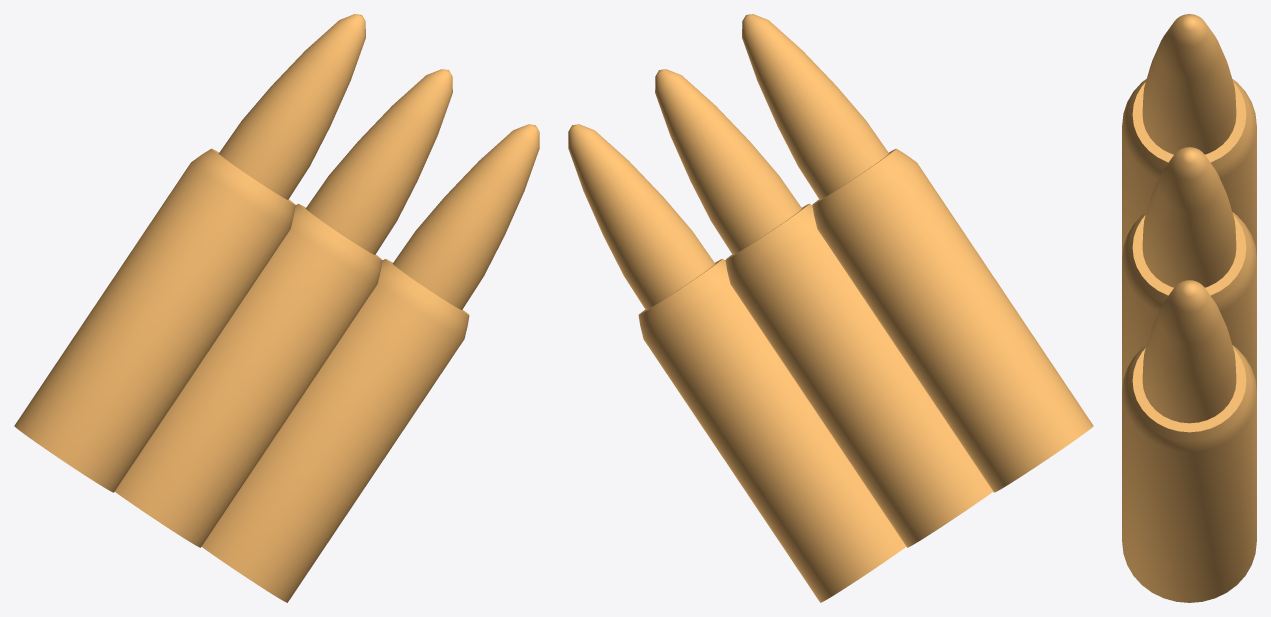
File: AmmoPickUp.fbx
The picture shows the model from 3 angles, left to right: view 1: azimuth 30°, elevation 25°; view 2: azimuth 150°, elevation 25°; view 3: azimuth 270°, elevation 25°; orthographic projection. The views are drawn at different scales.
Parts seen in each view (by area): view 1: Bullets; view 2: Bullets; view 3: Bullets.
Part boxes in pixels (left/top/right/bottom): Bullets: left=14, top=14, right=539, bottom=602; Bullets: left=568, top=14, right=1093, bottom=602; Bullets: left=1122, top=14, right=1256, bottom=602.
Size of the model in its own units: 61.19 by 63.77 by 12.39.
